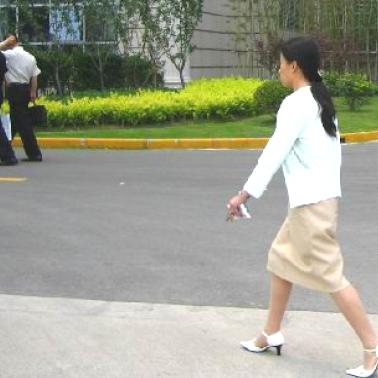ped: (228, 41, 378, 377), (1, 33, 47, 162)
